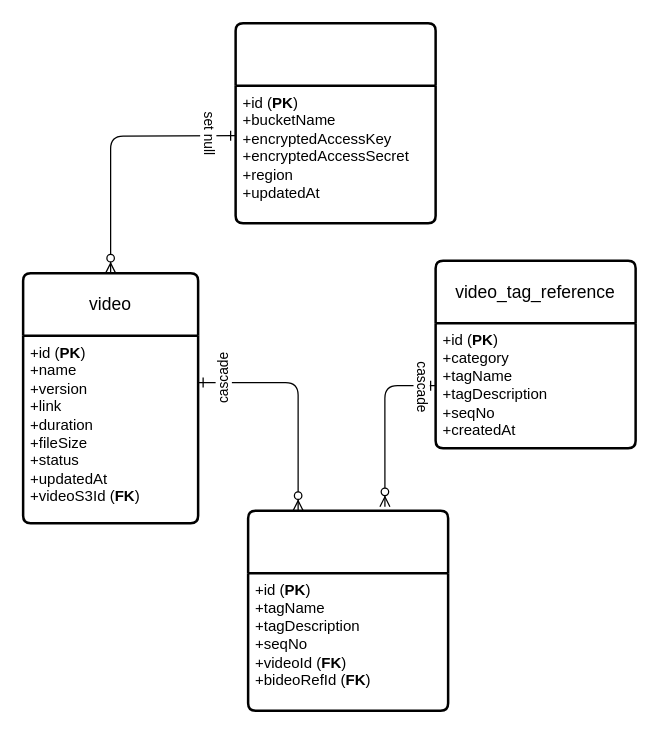
Some shapes in this 658 by 733 pixel diagram are drawn without their labels. Each missing label, with the box of its shape:
video_s3_config: (234, 21, 436, 224)
video_tag: (246, 509, 449, 711)
